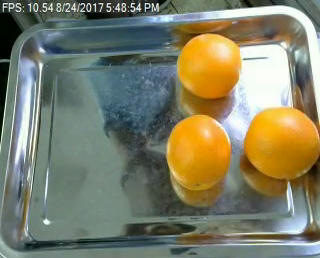Orange: (242, 106, 319, 179), (165, 114, 230, 189), (176, 33, 242, 99)
